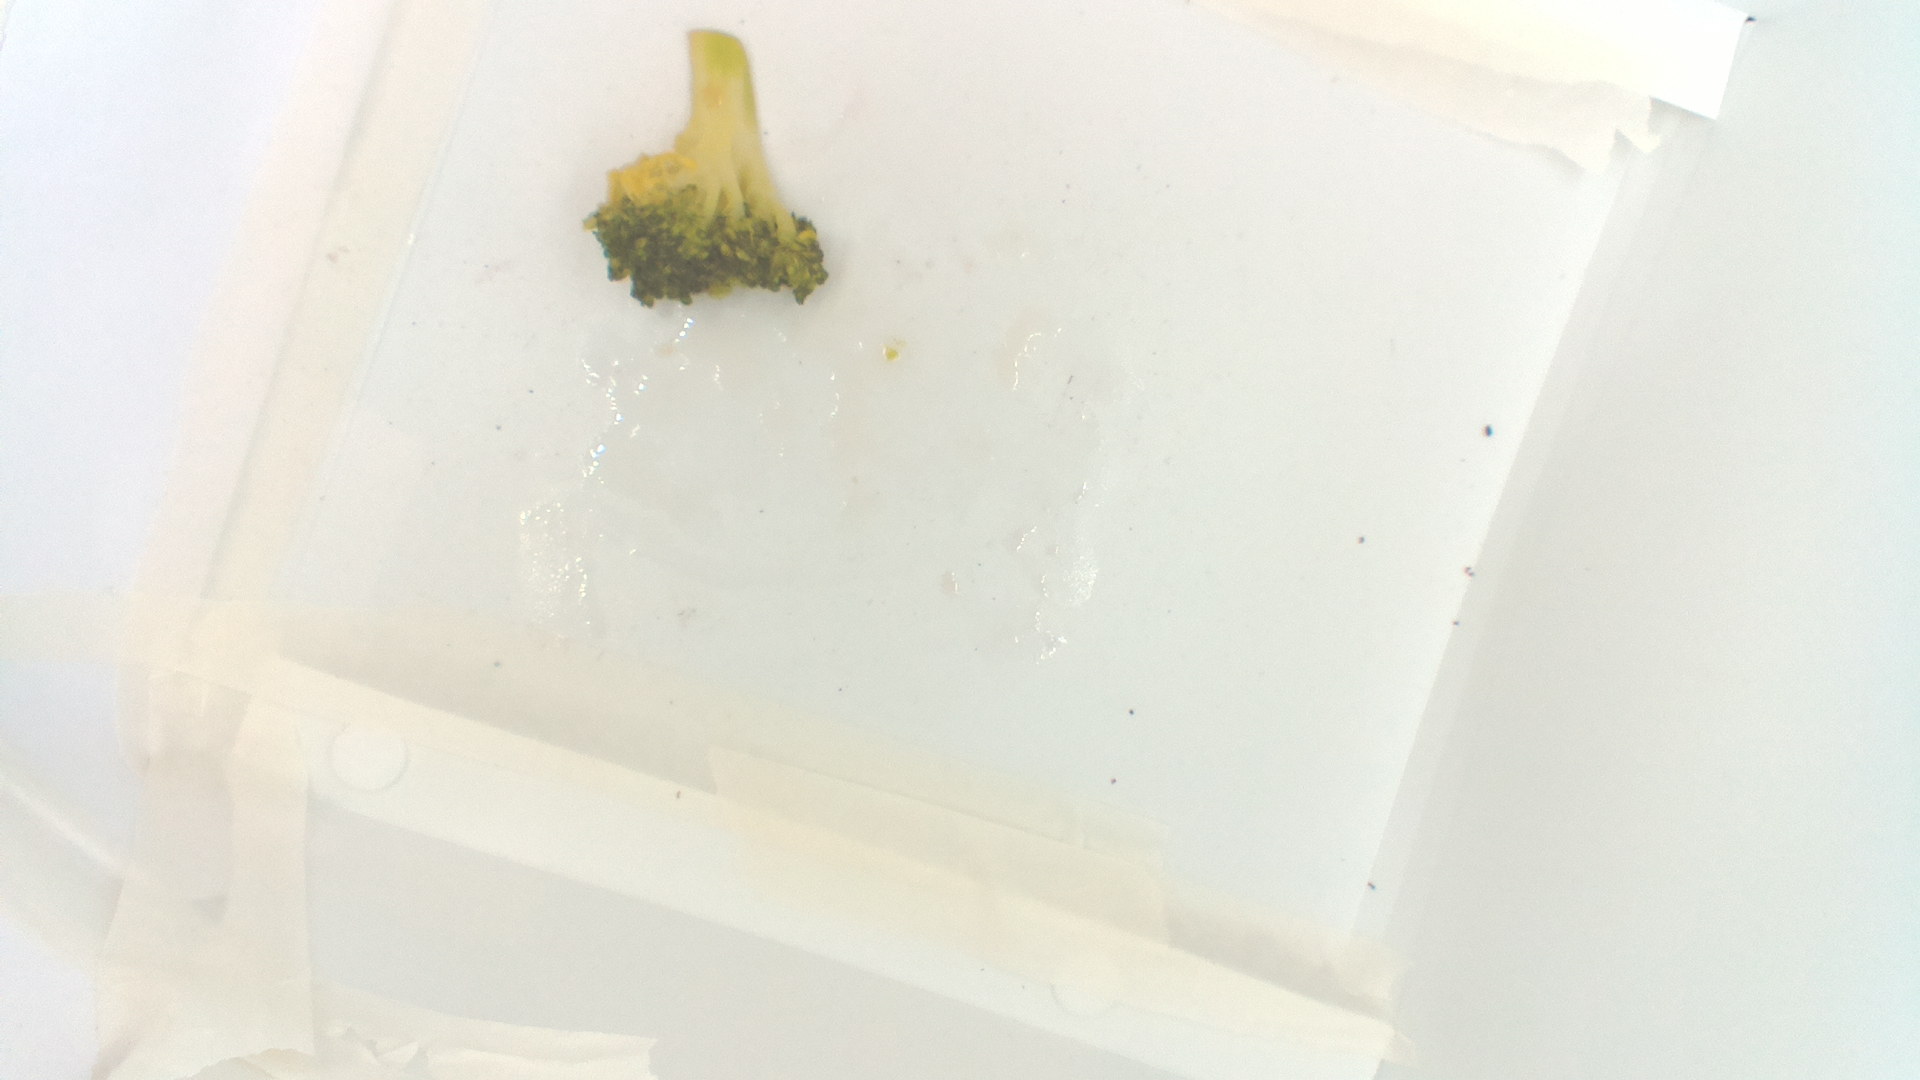vegetable: (582, 28, 833, 313)
